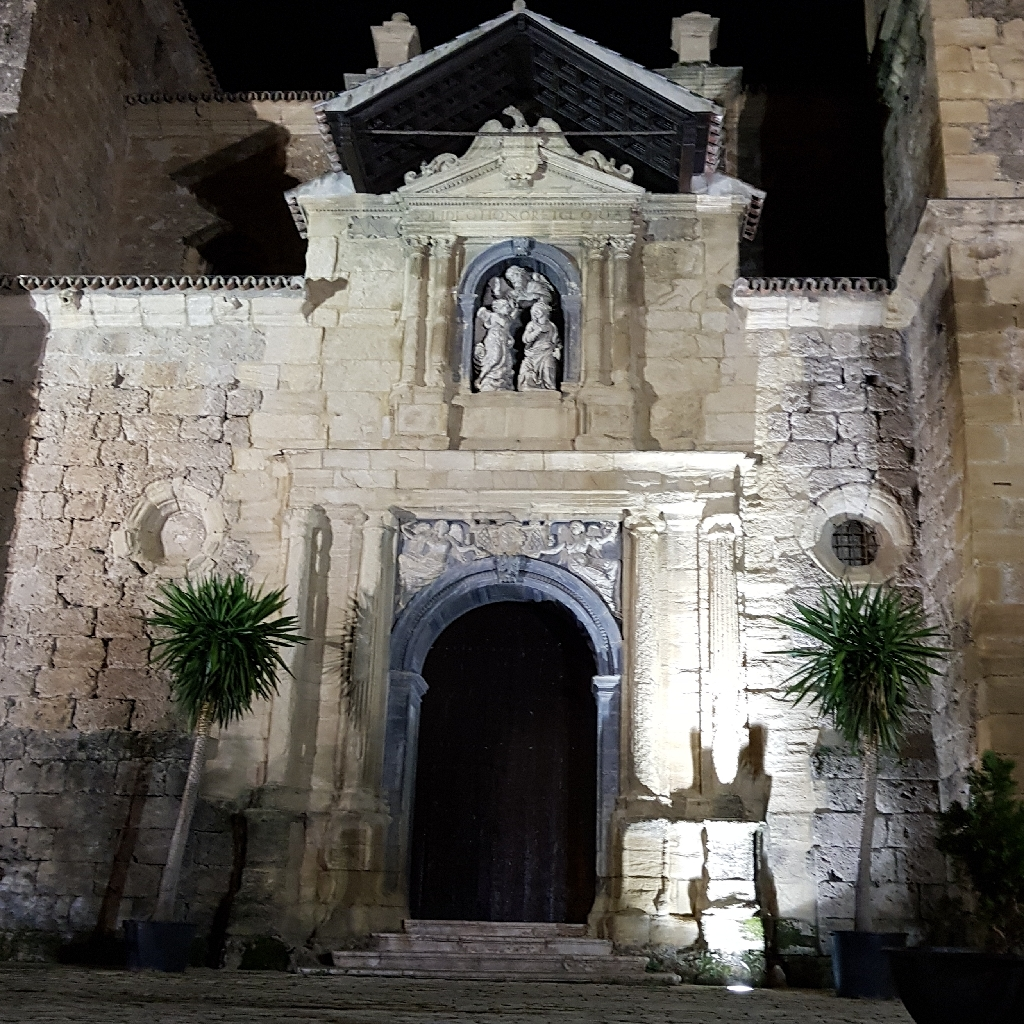arco-medio-punto: (405, 575, 610, 708)
fronton: (401, 147, 650, 205)
